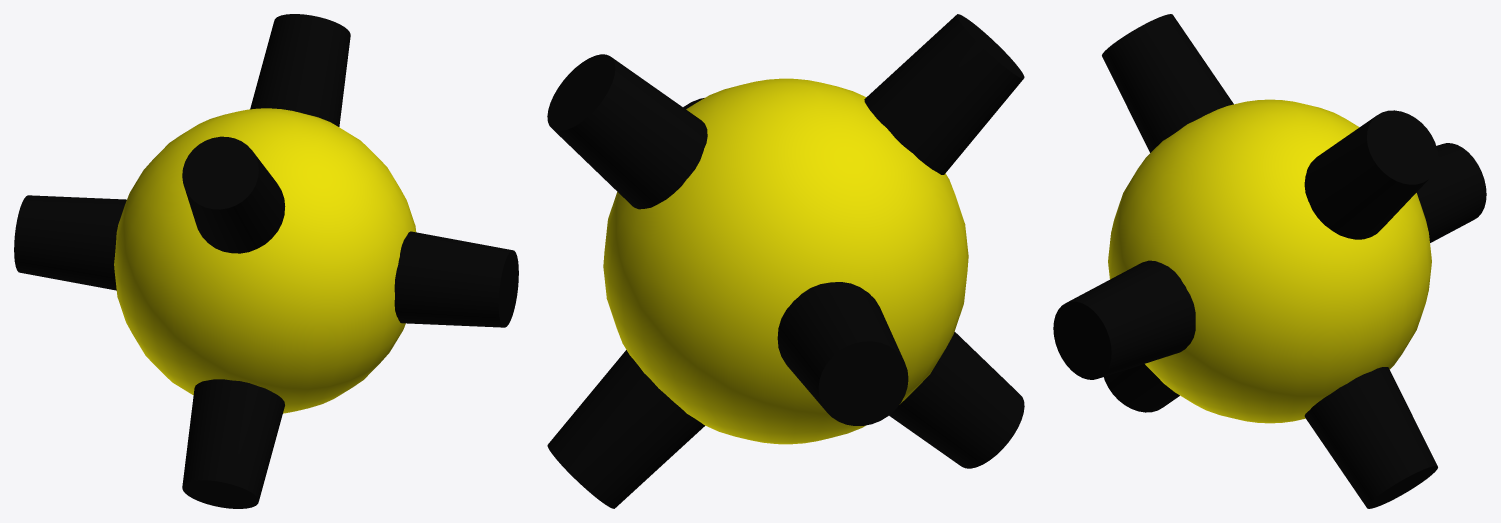
Rendered from spacebomb.fbx.
3 renders of one model, left to right at view 1: azimuth 30°, elevation 25°; view 2: azimuth 150°, elevation 25°; view 3: azimuth 270°, elevation 25°, orthographic. The views are drawn at different scales.
Parts seen in each view (by area): view 1: Sphere, Cylinder.002, Cylinder.001, Cylinder; view 2: Sphere, Cylinder, Cylinder.001, Cylinder.002; view 3: Sphere, Cylinder, Cylinder.002, Cylinder.001.
Part boxes in pixels (bbox=[...]): Sphere: bbox=[114, 108, 416, 413]; Cylinder.002: bbox=[14, 195, 518, 327]; Cylinder.001: bbox=[182, 14, 350, 508]; Cylinder: bbox=[182, 136, 285, 253]; Sphere: bbox=[603, 78, 968, 444]; Cylinder: bbox=[547, 14, 1024, 508]; Cylinder.001: bbox=[547, 54, 1024, 468]; Cylinder.002: bbox=[683, 98, 908, 425]; Sphere: bbox=[1108, 99, 1431, 423]; Cylinder: bbox=[1102, 14, 1437, 508]; Cylinder.002: bbox=[1053, 143, 1486, 379]; Cylinder.001: bbox=[1104, 110, 1438, 412].
Size of the model in its own units: 312 by 312 by 312.
